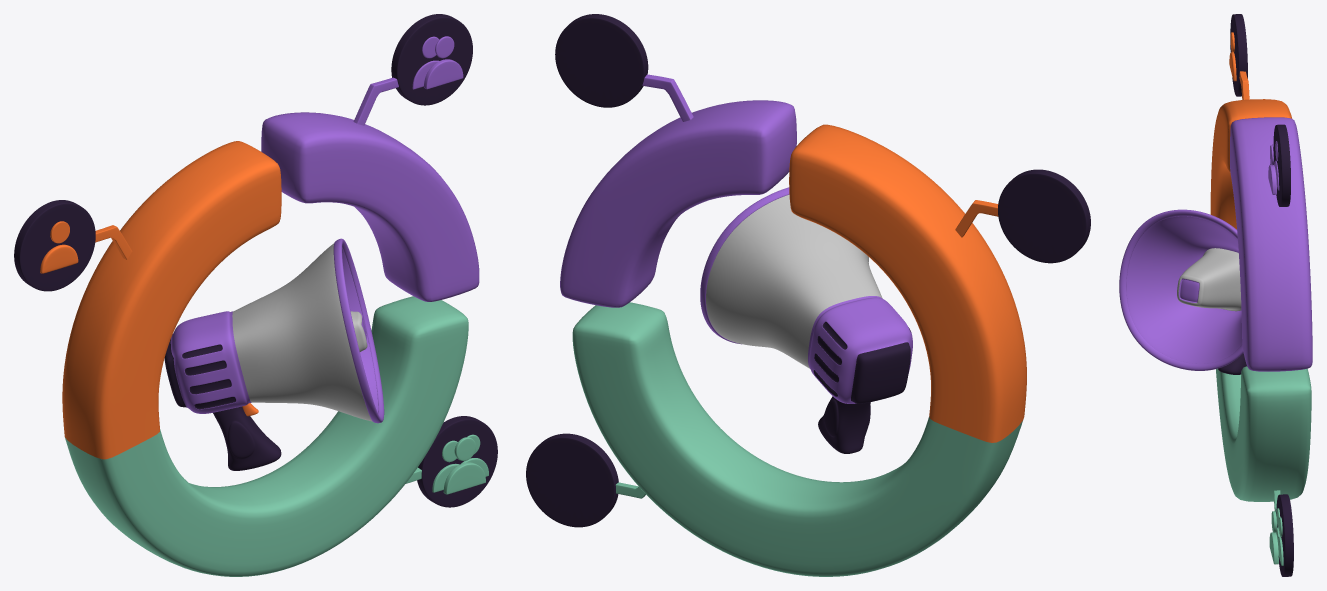
The model's file is segmentation-edit-3d-animated-icon-1579722968574.glb.
3 views of the same model, side by side, from view 1: azimuth 30°, elevation 25°; view 2: azimuth 150°, elevation 25°; view 3: azimuth 270°, elevation 25° (orthographic). The views are drawn at different scales.
Visible parts, largest first — view 1: Diagram 1, Diagram 2, Diagram 3, Megaphone Speaker, Megaphone, Audience 2, Audience 1, Audience 3; view 2: Diagram 1, Diagram 2, Diagram 3, Megaphone Speaker, Megaphone, Audience 2, Audience 1, Audience 3; view 3: Megaphone Speaker, Diagram 3, Diagram 1, Diagram 2, Audience 3, Audience 2, Audience 1, Megaphone.
Part boxes in pixels (x1,y1,x2,y2): Diagram 1: [65, 296, 468, 576]; Diagram 2: [62, 141, 281, 459]; Diagram 3: [261, 112, 479, 301]; Megaphone Speaker: [232, 238, 384, 423]; Megaphone: [164, 311, 281, 470]; Audience 2: [353, 14, 472, 125]; Audience 1: [14, 200, 132, 291]; Audience 3: [406, 416, 497, 507]; Diagram 1: [572, 302, 1022, 576]; Diagram 2: [789, 124, 1026, 442]; Diagram 3: [560, 100, 796, 307]; Megaphone Speaker: [700, 187, 882, 368]; Megaphone: [808, 296, 912, 453]; Audience 2: [555, 14, 693, 121]; Audience 1: [955, 169, 1090, 263]; Audience 3: [526, 433, 645, 527]; Megaphone Speaker: [1119, 209, 1243, 370]; Diagram 3: [1230, 117, 1312, 371]; Diagram 1: [1216, 366, 1311, 501]; Diagram 2: [1210, 99, 1292, 229]; Audience 3: [1269, 490, 1293, 576]; Audience 2: [1268, 124, 1290, 206]; Audience 1: [1229, 14, 1249, 99]; Megaphone: [1218, 353, 1246, 374].
Size of the model in its own units: 1.95 by 1.81 by 0.7334.
